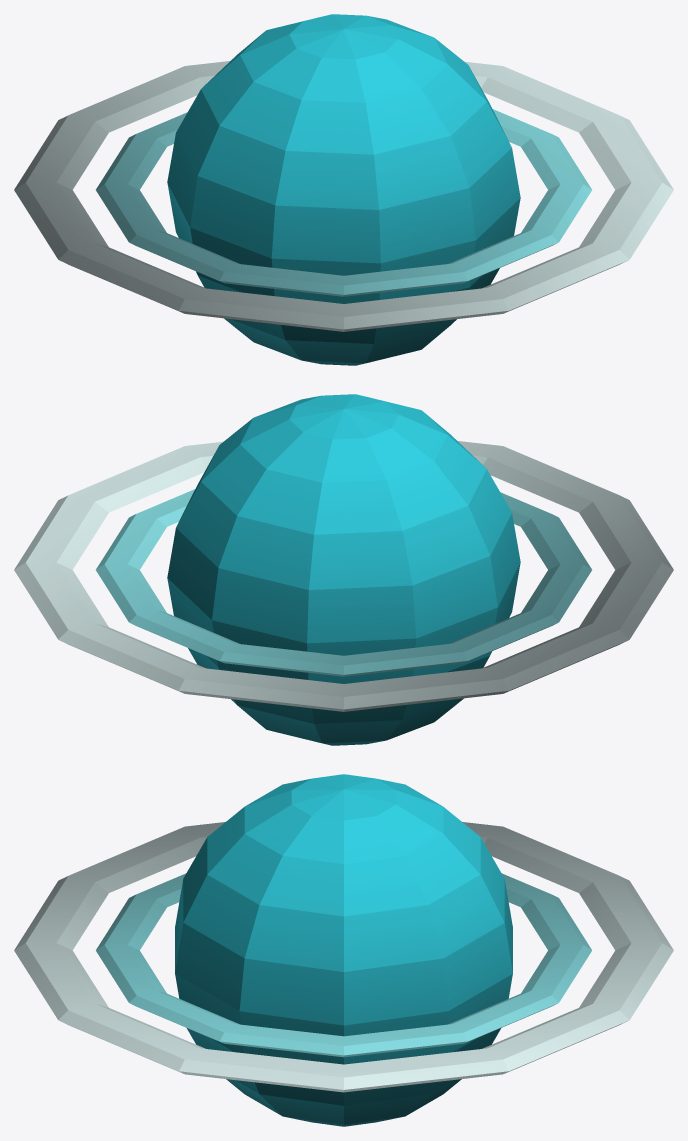
Rendered from Planet_2.fbx.
3 views of the same model, one above another, from view 1: azimuth 30°, elevation 25°; view 2: azimuth 150°, elevation 25°; view 3: azimuth 270°, elevation 25° (orthographic).
Parts seen in each view (by area): view 1: Planet_2; view 2: Planet_2; view 3: Planet_2.
Boxes of the visible parts, box(x1,y1,x2,y2) form: Planet_2: box(14, 14, 673, 365); Planet_2: box(14, 394, 673, 745); Planet_2: box(14, 774, 673, 1126).
Size of the model in its own units: 681 by 367 by 681.
Materials: 1 (1 with a texture image).
